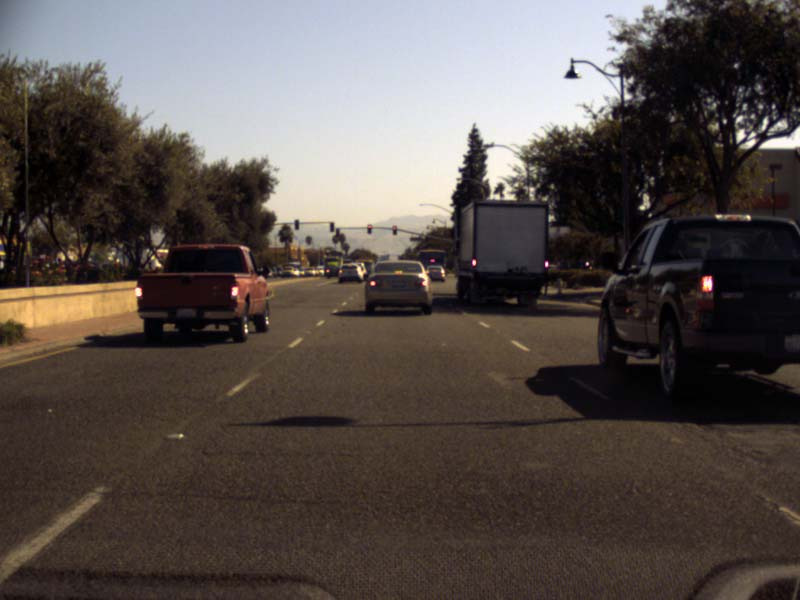Red: (367, 224, 371, 234), (392, 225, 396, 235)
